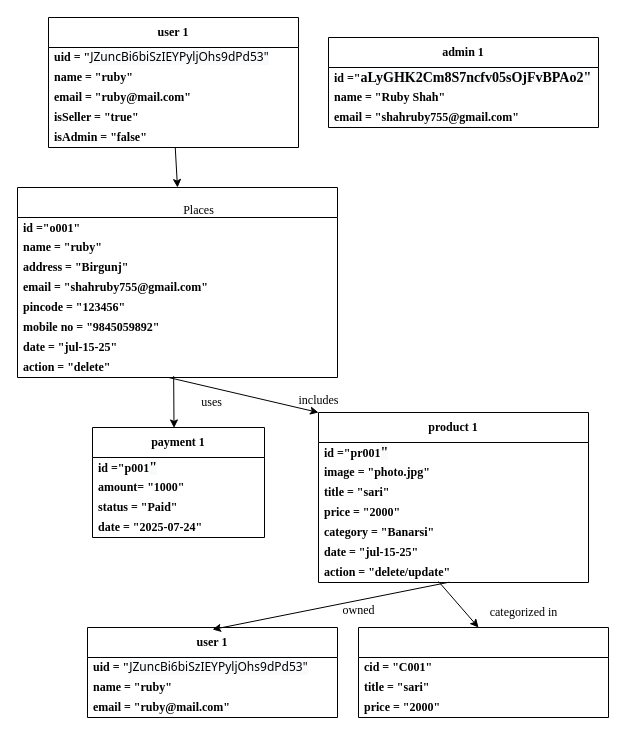
Image size: 626x735. Some labels were removed from this diagram. The box of each missing label's shape, as (x1, y1, x2, y2) in pixels:
category 1: (358, 626, 608, 718)
order 1: (16, 186, 338, 378)
